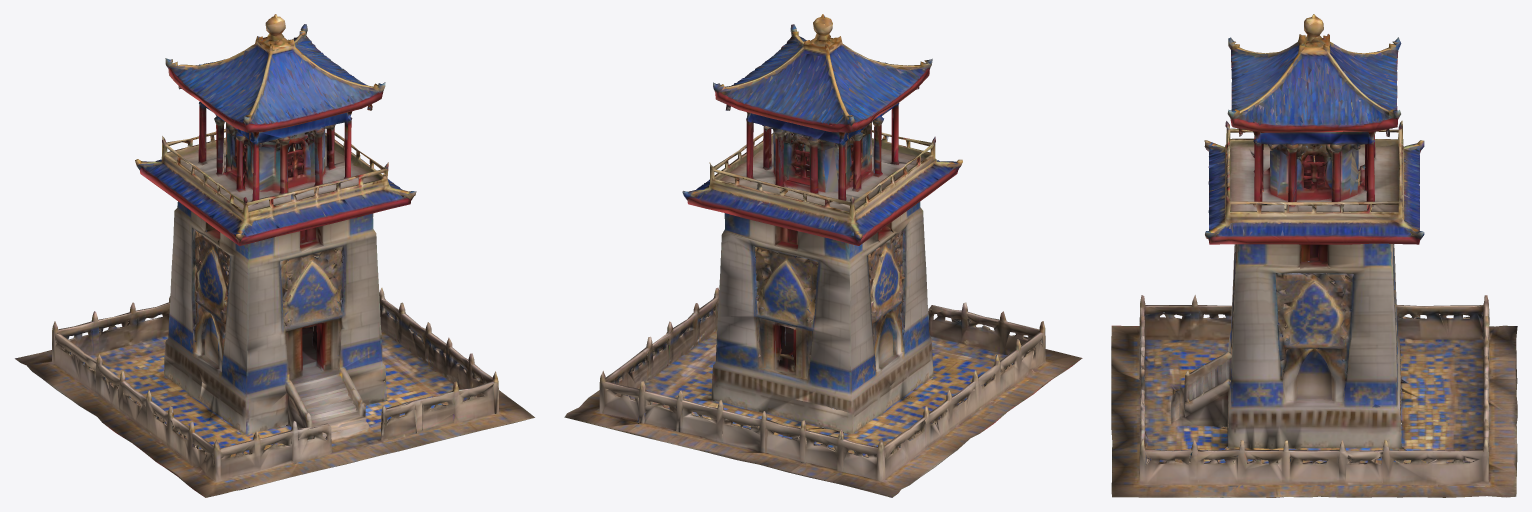
Rendered from Ornate_Watchtower.glb.
3 renders of one model, left to right at view 1: azimuth 30°, elevation 25°; view 2: azimuth 150°, elevation 25°; view 3: azimuth 270°, elevation 25°, orthographic. The views are drawn at different scales.
Parts seen in each view (by area): view 1: Ornate_Watchtower; view 2: Ornate_Watchtower; view 3: Ornate_Watchtower.
Boxes of the visible parts, x1=… form: Ornate_Watchtower: x1=15, y1=14, x2=534, y2=497; Ornate_Watchtower: x1=564, y1=14, x2=1082, y2=497; Ornate_Watchtower: x1=1111, y1=14, x2=1517, y2=497.
Bounding box in the file's own units: 1.74 × 1.88 × 1.73.
Materials: 1 (1 with a texture image).
